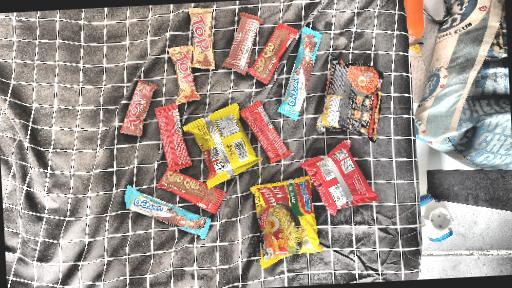chocho: (238, 92, 296, 177), (243, 19, 308, 87), (150, 101, 204, 177), (155, 170, 231, 221)
dilan: (112, 182, 221, 254), (275, 30, 333, 124)
indomie: (235, 180, 341, 263), (283, 142, 385, 209)
mie sedap: (311, 52, 398, 141)
momotaro: (193, 101, 269, 186)
top: (219, 9, 273, 81), (167, 35, 207, 110), (129, 63, 159, 153), (184, 12, 230, 66)
